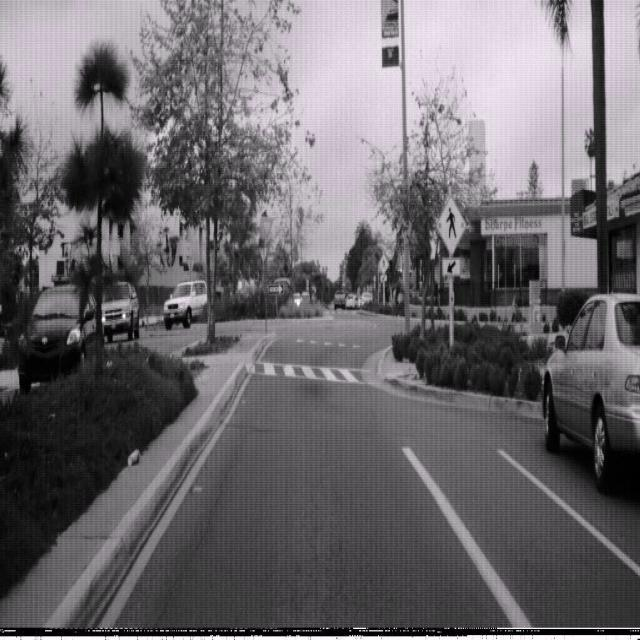pedestrianCrossing: (435, 194, 467, 256)
yield: (260, 214, 274, 242)
